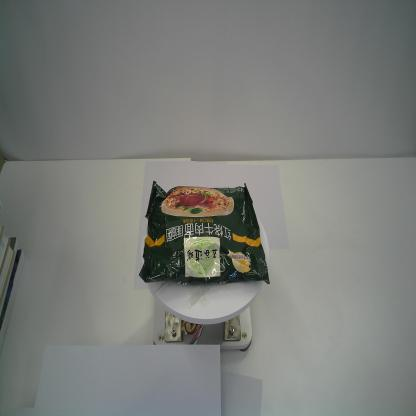Instant Noodles: (138, 177, 271, 286)
